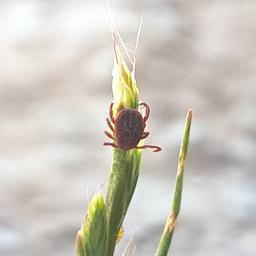Rhipicephalus sanguineus: (104, 102, 162, 154)
